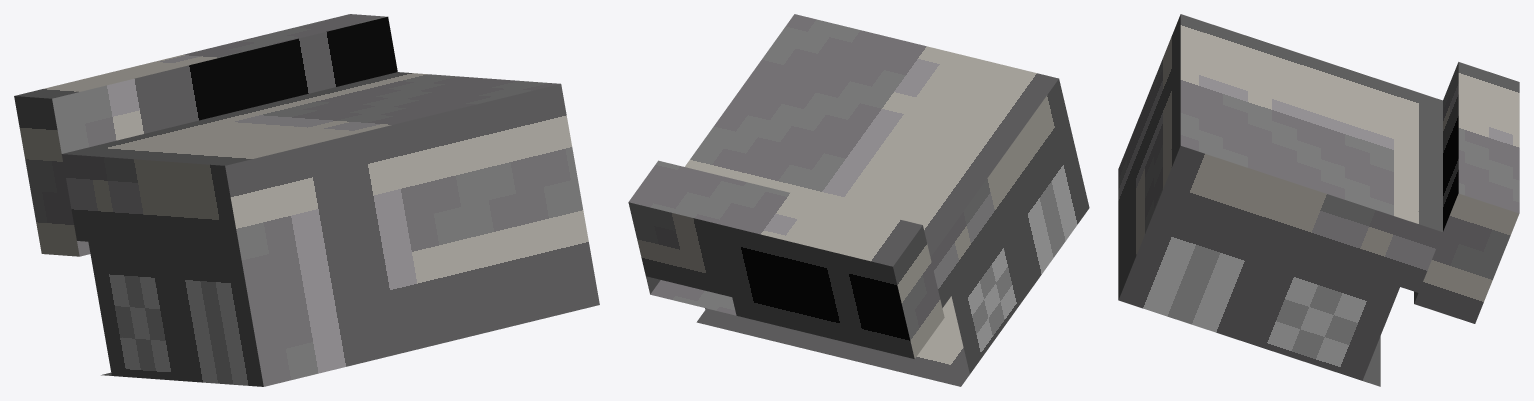
File: adl.obj
The picture shows the model from 3 angles, left to right: view 1: azimuth 30°, elevation 25°; view 2: azimuth 150°, elevation 25°; view 3: azimuth 270°, elevation 25°; orthographic projection. The views are drawn at different scales.
Parts seen in each view (by area): view 1: cube, cube1; view 2: cube, cube1; view 3: cube, cube1.
Boxes of the visible parts, x1,y1,x2,y2 form: cube: [61, 72, 599, 386]; cube1: [14, 14, 397, 256]; cube: [685, 14, 1089, 386]; cube1: [628, 160, 944, 358]; cube: [1118, 14, 1442, 386]; cube1: [1414, 62, 1519, 323].
Bounding box in the file's own units: 3 × 2.56 × 3.86.
